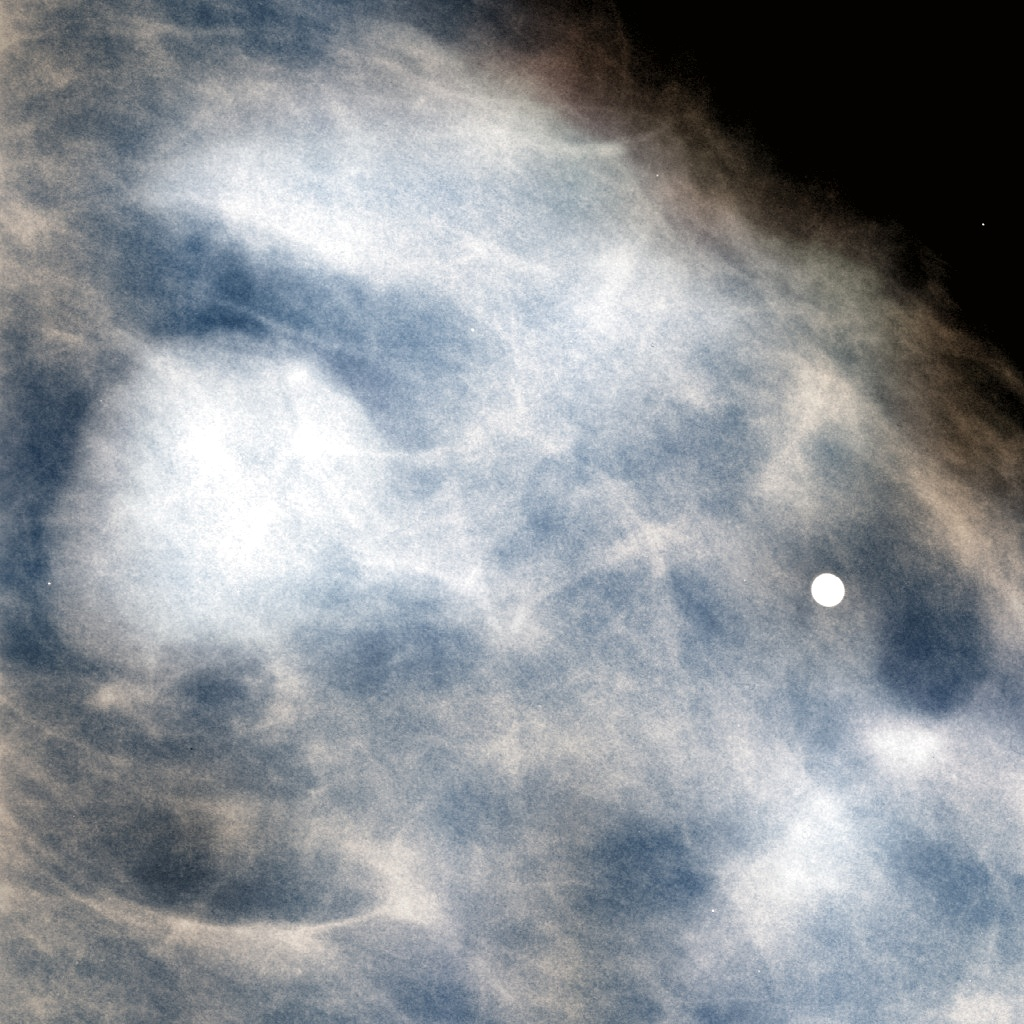tumor: (73, 332, 417, 692)
